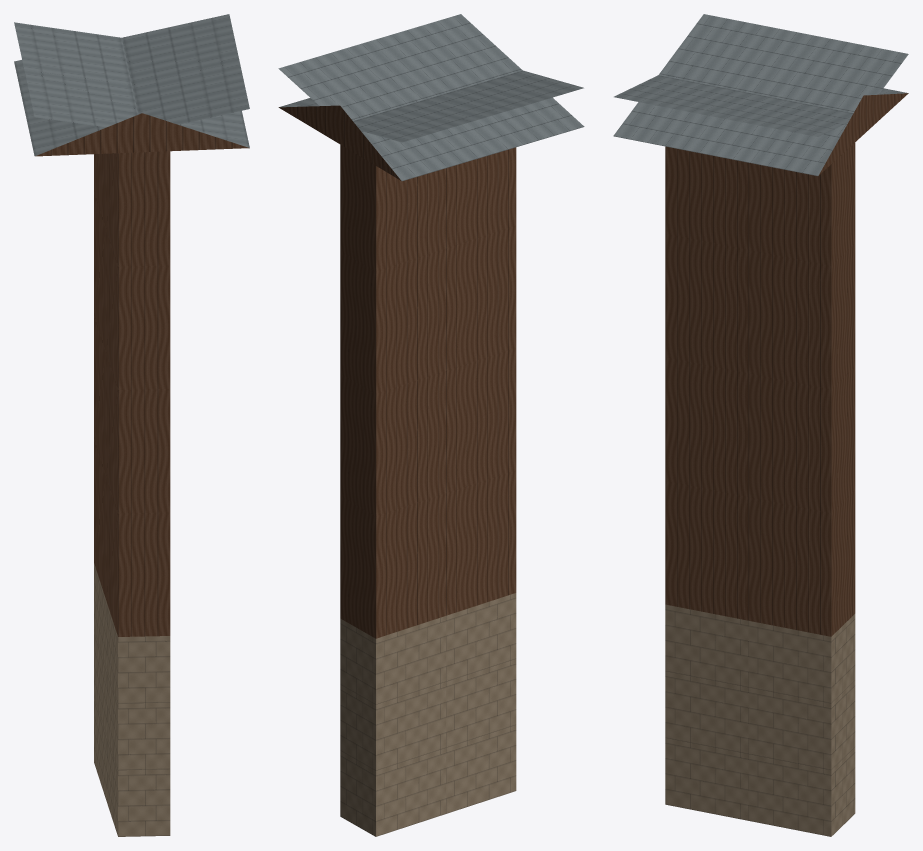
File: bld_c-2_0_541.gltf
3 renders of one model, left to right at view 1: azimuth 30°, elevation 25°; view 2: azimuth 150°, elevation 25°; view 3: azimuth 270°, elevation 25°, orthographic.
Parts seen in each view (by area): view 1: bld_c-2_0_541; view 2: bld_c-2_0_541; view 3: bld_c-2_0_541.
Boxes of the visible parts, x1=… form: bld_c-2_0_541: x1=14, y1=14, x2=249, y2=836; bld_c-2_0_541: x1=278, y1=14, x2=584, y2=836; bld_c-2_0_541: x1=613, y1=14, x2=908, y2=836.
Size of the model in its own units: 6.73 by 18.7 by 6.83.
4 materials, 4 textured.
